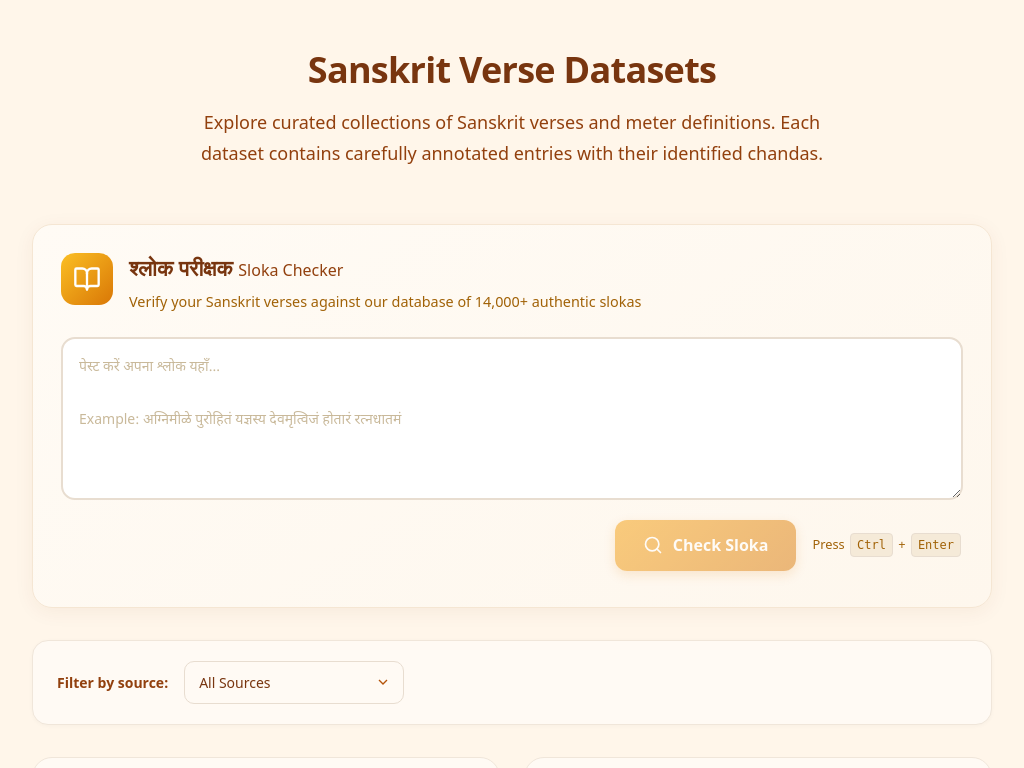
Test: DatasetsView › filters the cards by source
Step 1. Select "IIT Kanpur" in the dropdown → (294, 682), box [184,661,404,704]
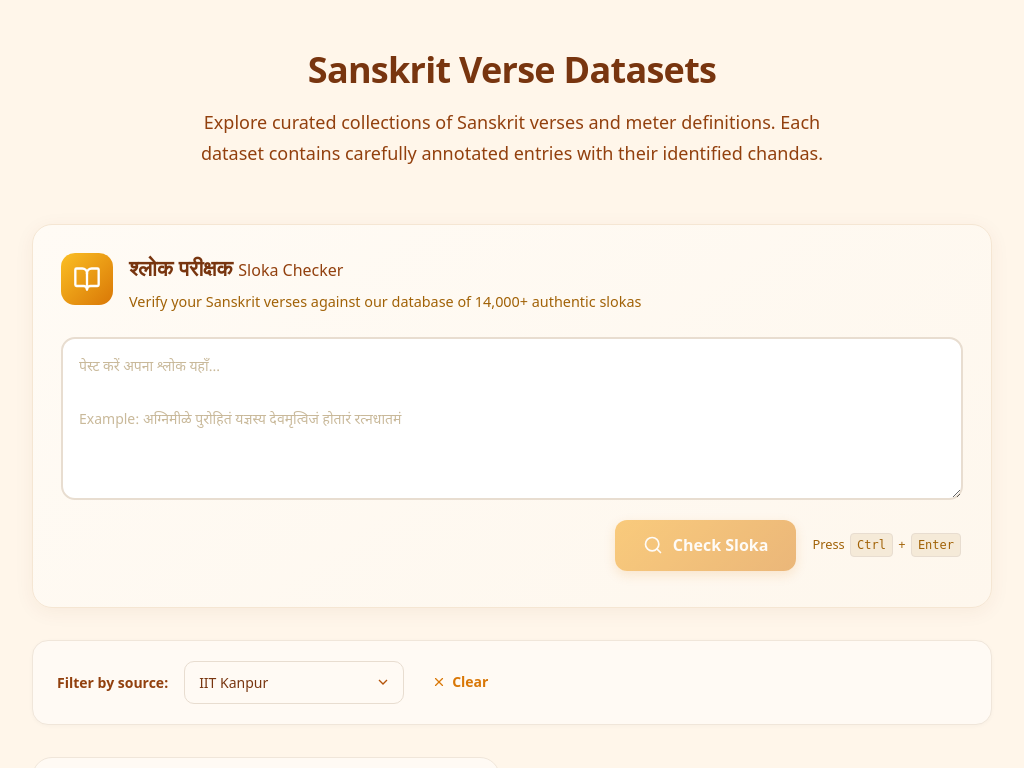
Expected: the text "Rigveda with Meters" is not shown
Step 2. Click the button "Clear" → (460, 682), box [420,664,500,700]
(page scrolled)
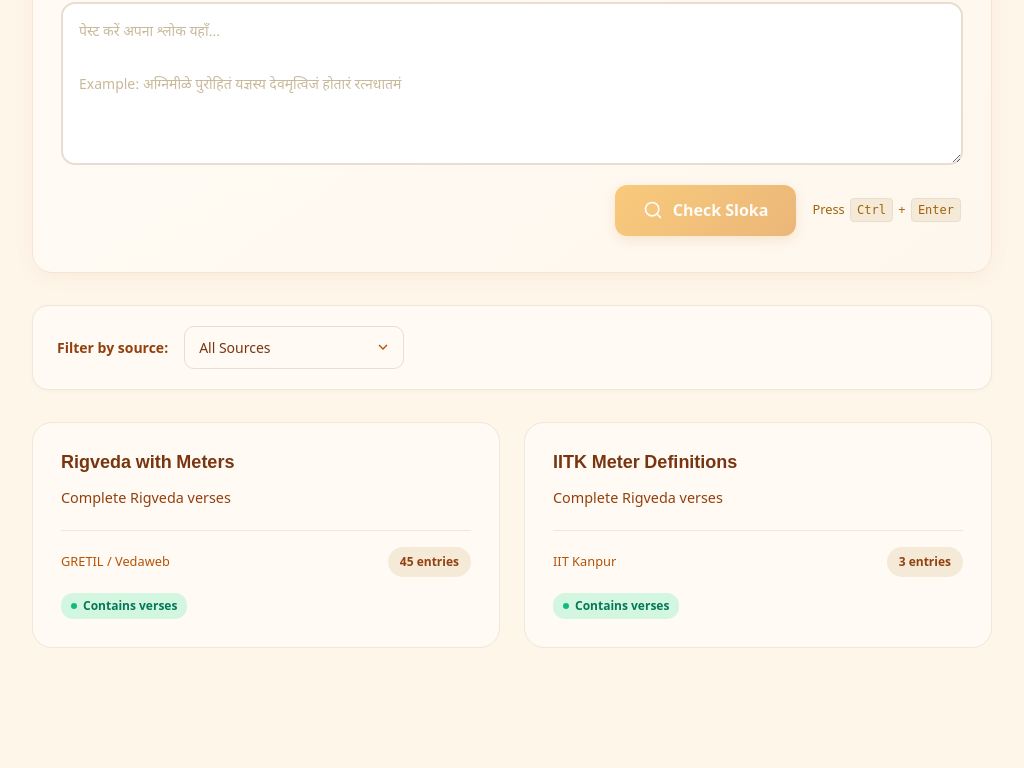
Now the heading "Rigveda with Meters" is shown, box [61,452,234,475]
